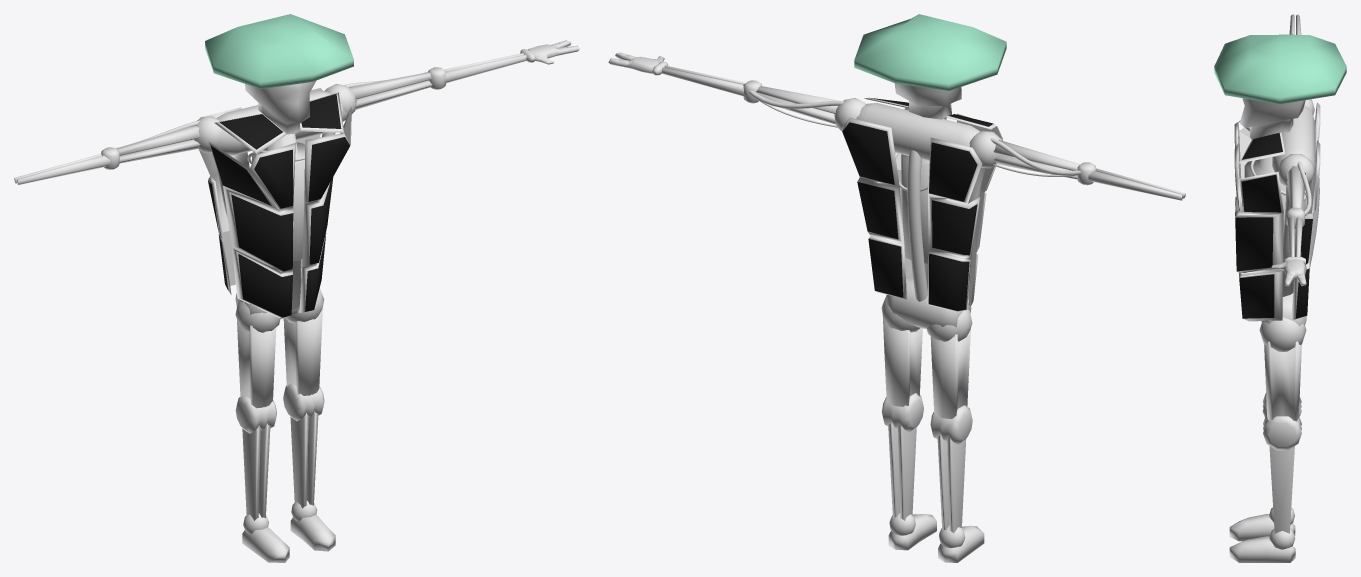
File: roborto.fbx
3 renders of one model, left to right at view 1: azimuth 30°, elevation 25°; view 2: azimuth 150°, elevation 25°; view 3: azimuth 270°, elevation 25°, orthographic. The views are drawn at different scales.
Parts seen in each view (by area): view 1: Cube.017, Cube.023, Cube.019, Cylinder.004, Cube.024, Cube.021, Cylinder.005, Cube.026, Cube.022, Cylinder.009, Cylinder.008, Cube.009 (+9 smaller); view 2: Cube.017, Cylinder.005, Cube.023, Cube.019, BezierCurve.001, Cylinder.007, Cylinder.004, Cube.024, Cube.021, Cylinder.009, Cylinder.008, Cube.022 (+9 smaller); view 3: Cube.017, Cube.019, Cube.020, Cylinder.005, Cube.022, Icosphere.004, Cylinder.008, Cube.026, Cylinder.004, Icosphere.003, Cube.016, Cube.018 (+8 smaller).
Part boxes in pixels (x1,y1,x2,y2): Cube.017: [199, 14, 353, 317]; Cube.023: [237, 320, 276, 408]; Cube.019: [283, 307, 322, 395]; Cylinder.004: [252, 134, 305, 310]; Cube.024: [242, 425, 260, 520]; Cube.021: [290, 412, 308, 508]; Cylinder.005: [211, 90, 347, 155]; Cube.026: [242, 527, 289, 562]; Cube.022: [290, 515, 335, 551]; Cylinder.009: [235, 395, 276, 433]; Cylinder.008: [283, 383, 324, 421]; Cube.009: [116, 126, 200, 155]; Cube.017: [841, 14, 1006, 311]; Cylinder.005: [856, 103, 980, 160]; Cube.023: [930, 328, 970, 418]; Cube.019: [882, 316, 922, 406]; BezierCurve.001: [907, 150, 927, 301]; Cylinder.007: [886, 277, 971, 329]; Cylinder.004: [901, 154, 929, 289]; Cube.024: [947, 437, 966, 533]; Cube.021: [898, 424, 916, 520]; Cylinder.009: [930, 405, 972, 444]; Cylinder.008: [882, 393, 923, 432]; Cube.022: [888, 514, 936, 550]; Cube.017: [1214, 34, 1346, 321]; Cube.019: [1264, 341, 1301, 421]; Cube.020: [1269, 446, 1294, 533]; Cylinder.005: [1272, 105, 1315, 186]; Cube.022: [1229, 536, 1295, 562]; Icosphere.004: [1259, 317, 1306, 351]; Cylinder.008: [1263, 413, 1301, 450]; Cube.026: [1229, 514, 1295, 541]; Cylinder.004: [1244, 157, 1305, 296]; Icosphere.003: [1278, 154, 1314, 186]; Cube.016: [1287, 166, 1305, 208]; Cube.018: [1271, 259, 1306, 286].
Bounding box in the file's own units: 1322 × 1159 × 276.
